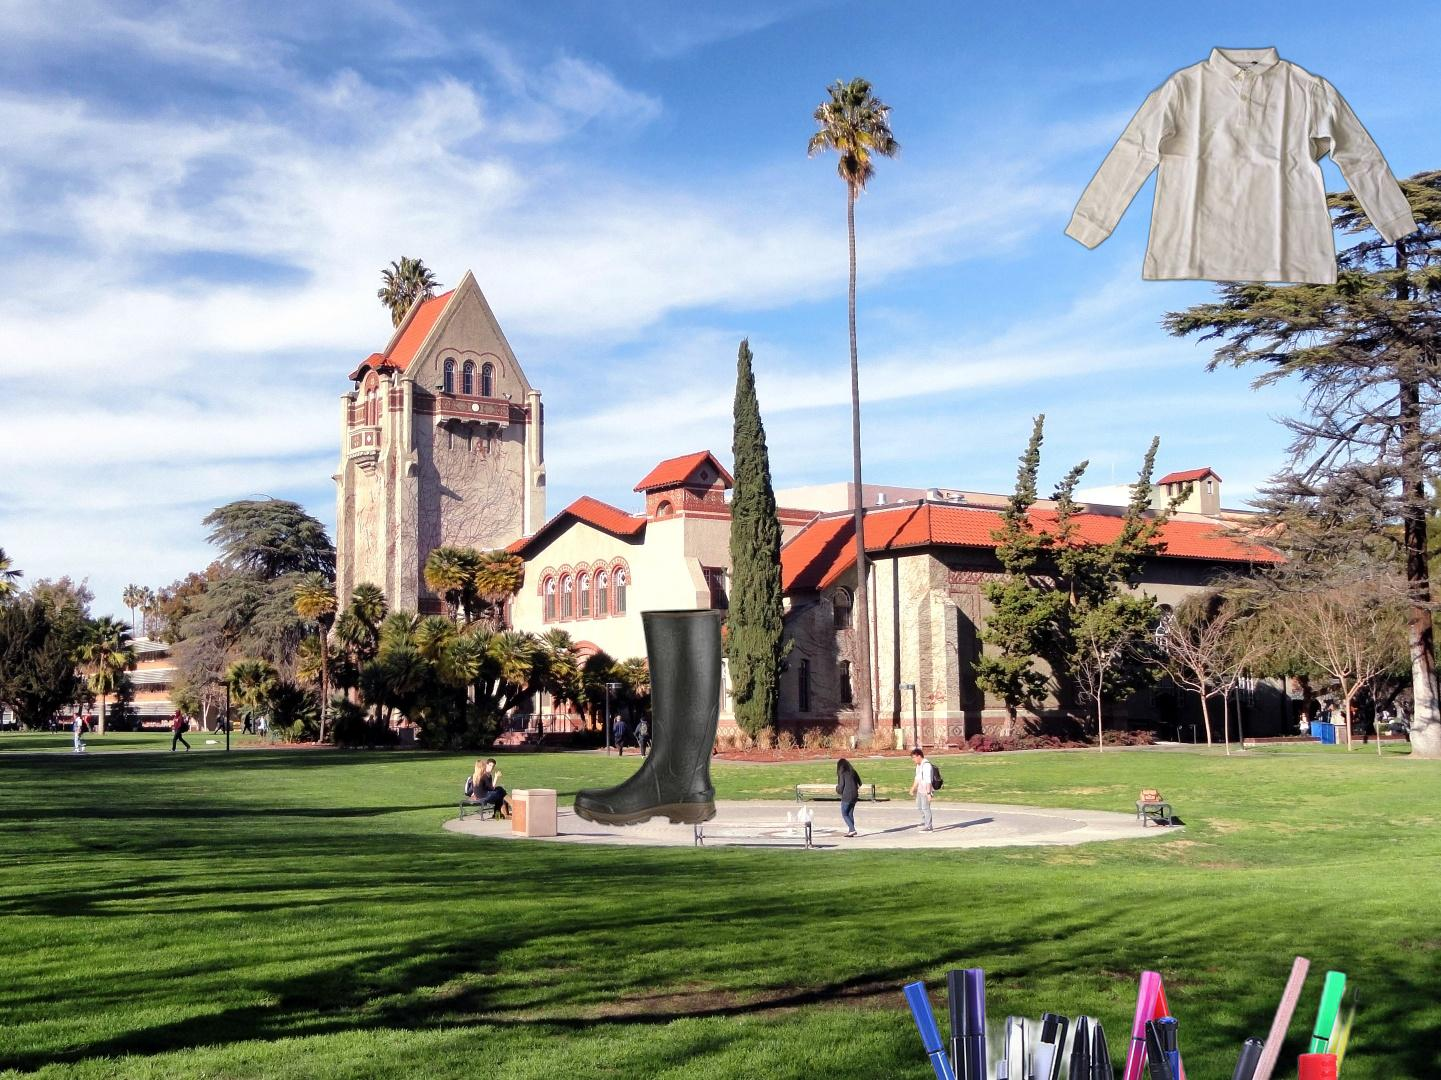clothes: (1061, 43, 1424, 290)
penholder: (896, 954, 1441, 1080), (1124, 920, 1441, 1080)
shoes: (571, 605, 725, 830)
